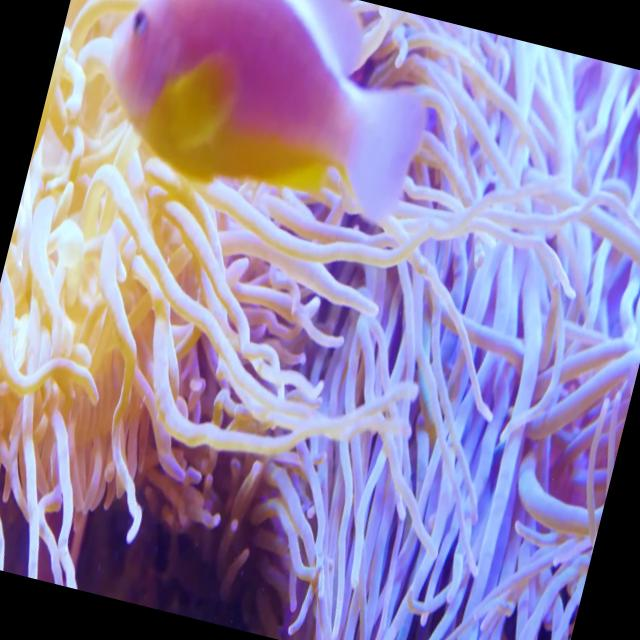fish: (85, 0, 445, 231)
